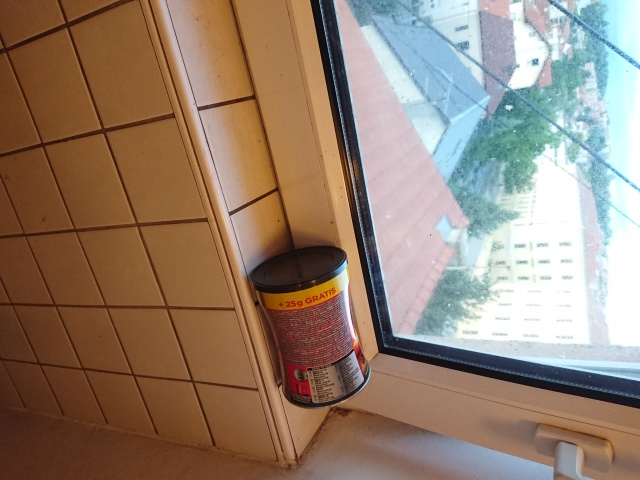Nescafe Classic 225g: (246, 242, 374, 412)
